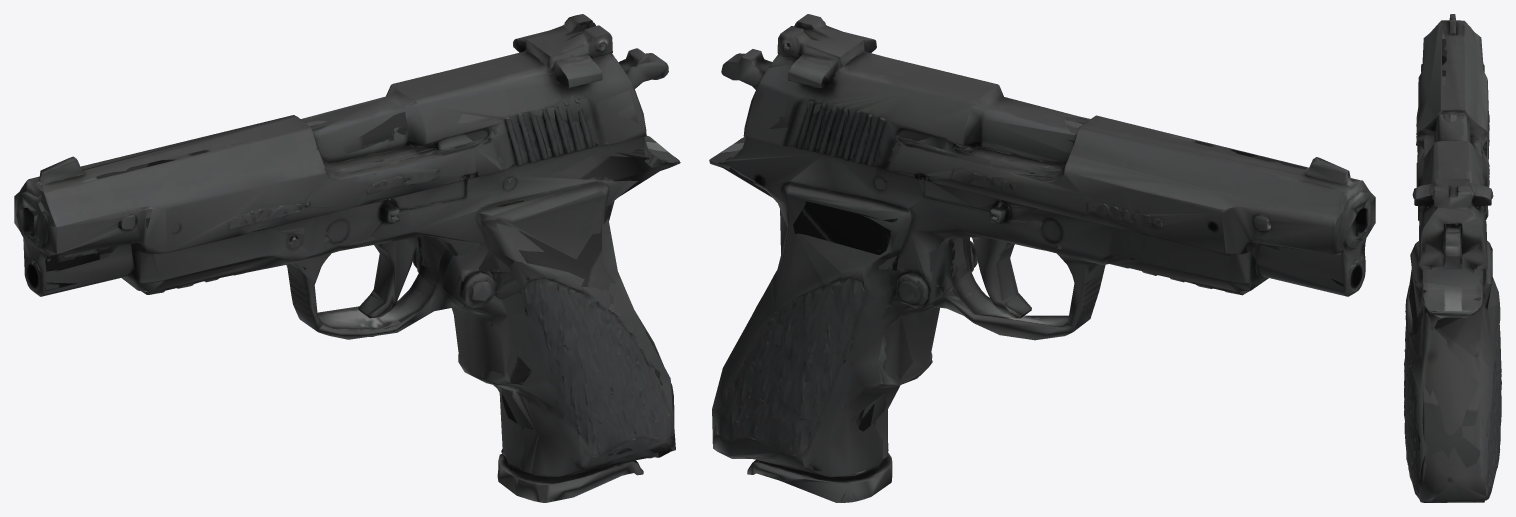
The model's file is nighthawk.glb.
3 renders of one model, left to right at view 1: azimuth 30°, elevation 25°; view 2: azimuth 150°, elevation 25°; view 3: azimuth 270°, elevation 25°, orthographic. The views are drawn at different scales.
Size of the model in its own units: 1.9 by 1.27 by 0.3663.
Materials: 1 (1 with a texture image).
